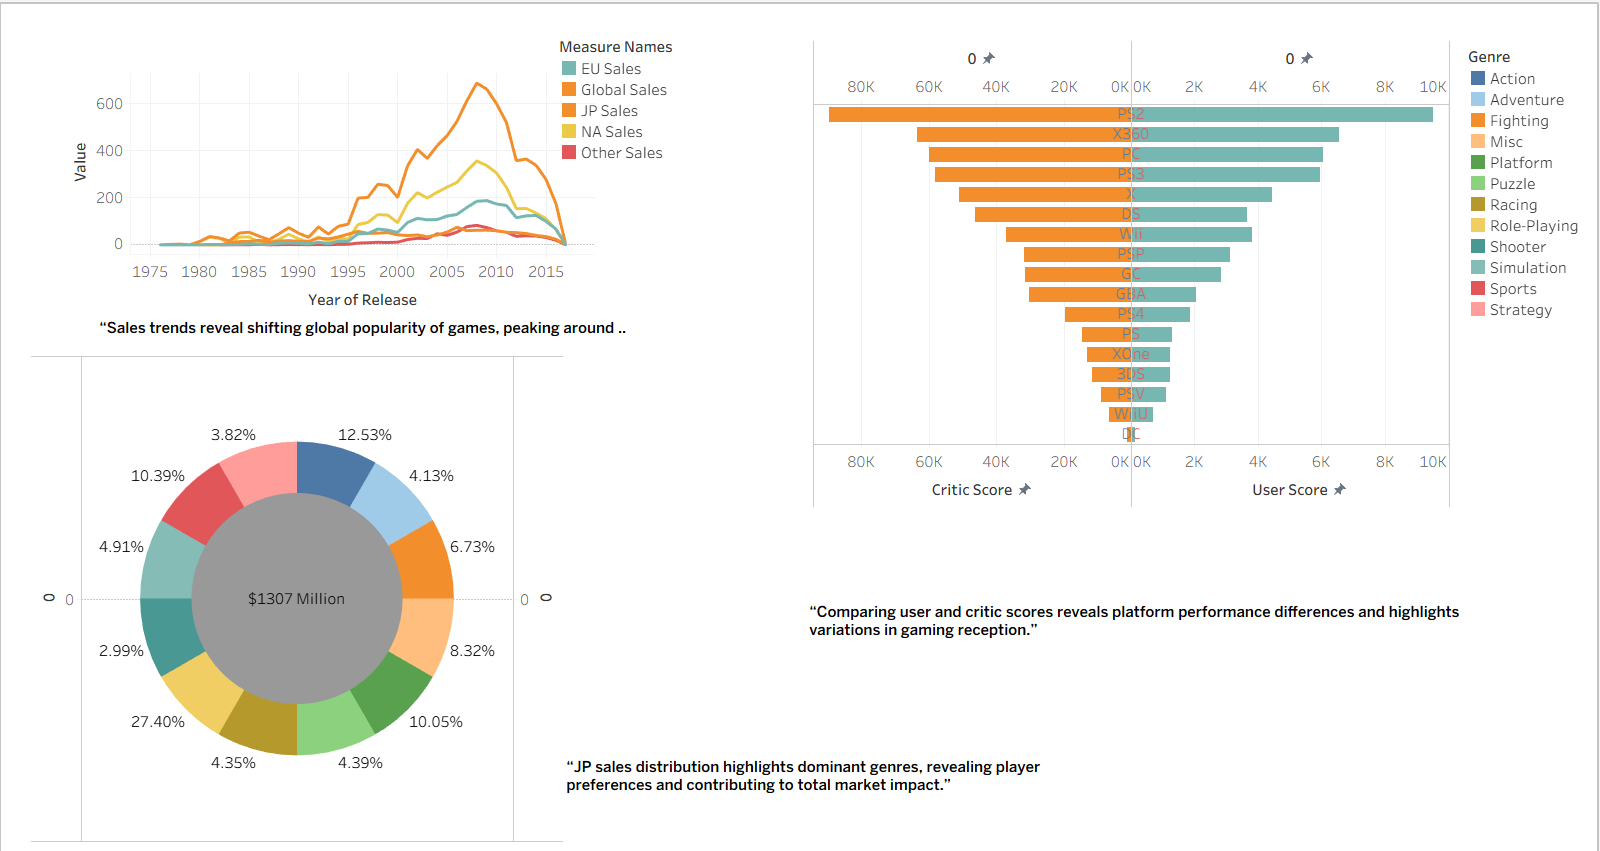

What the dashboard file says about the page in this screenshot:
{"tool":"tableau","page":{"name":"Dashboard 1","canvas":[1600,900],"ordinal":0},"visuals":[{"type":"worksheet","title":"Headline","mark":"Automatic","box":[0,0,1600,900]},{"type":"worksheet","title":"Sheet 3","mark":"Automatic","rows":["Platform"],"cols":["Critic_Score","Calculation_2117817740002942997","User_Score","Calculation_2117817740003082265"],"box":[814,24,638,524]},{"type":"legend","title":"Sheet 1","param":"[federated.1niuc431q5g1s11b0og2n0wpsd0v].[:Measure Names]","box":[560,34,140,127]},{"type":"worksheet","title":"Sheet 1","mark":"Line","cols":["Year_of_Release"],"box":[63,56,533,259]},{"type":"text","box":[97,307,533,38]},{"type":"worksheet","title":"Sheet 2","mark":"Pie","rows":["Calculation_2117817739993309191","Calculation_2117817739993706505"],"box":[32,339,533,501]},{"type":"text","box":[807,574,674,90]},{"type":"text","box":[564,725,516,98]}]}

Visuals, with their boxes on the page's 1600x900 design canvas (x1, y1, x2, y2). These are canvas units, not pixel positions in the 1600x851 screenshot, which may show the page scaled, cropped or inside an application window:
"Headline" worksheet: {"x1": 0, "y1": 0, "x2": 1600, "y2": 900}
"Sheet 3" worksheet: {"x1": 814, "y1": 24, "x2": 1452, "y2": 548}
"Sheet 1" legend: {"x1": 560, "y1": 34, "x2": 700, "y2": 161}
"Sheet 1" worksheet (Line marks): {"x1": 63, "y1": 56, "x2": 596, "y2": 315}
text: {"x1": 97, "y1": 307, "x2": 630, "y2": 345}
"Sheet 2" worksheet (Pie marks): {"x1": 32, "y1": 339, "x2": 565, "y2": 840}
text: {"x1": 807, "y1": 574, "x2": 1481, "y2": 664}
text: {"x1": 564, "y1": 725, "x2": 1080, "y2": 823}
